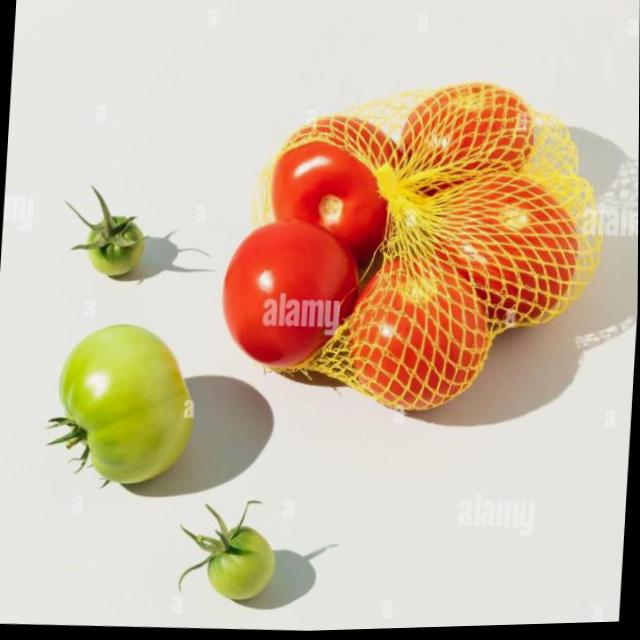tomato: (219, 221, 363, 377), (271, 140, 394, 275)
